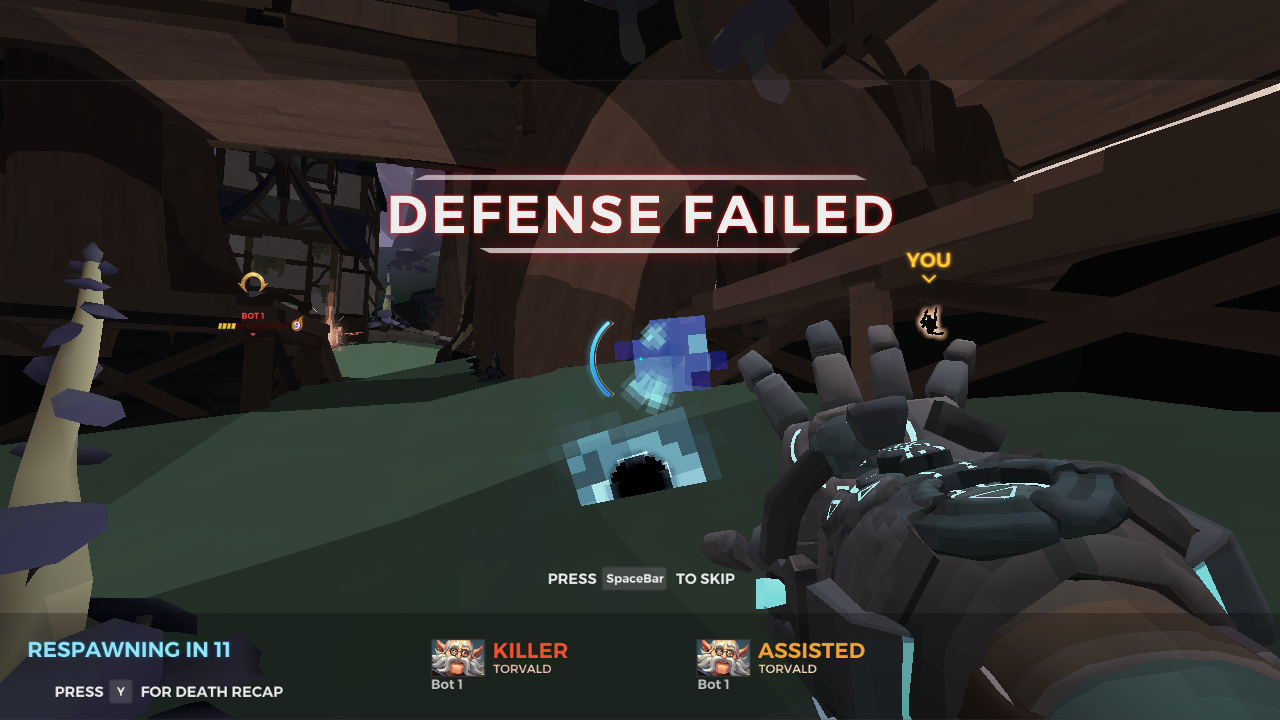model: (916, 305, 948, 344)
